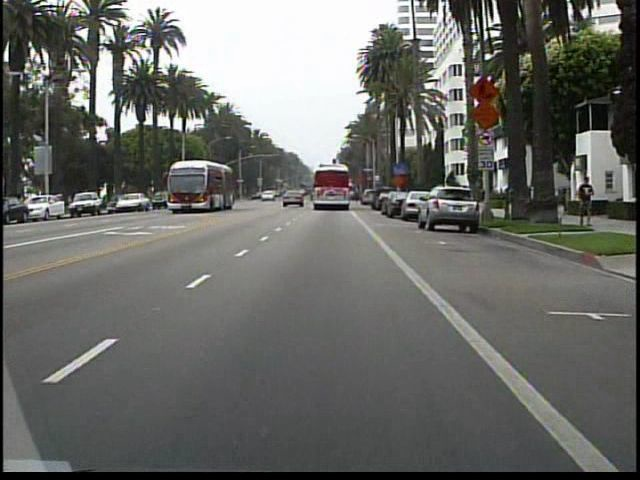person: (575, 173, 596, 230)
